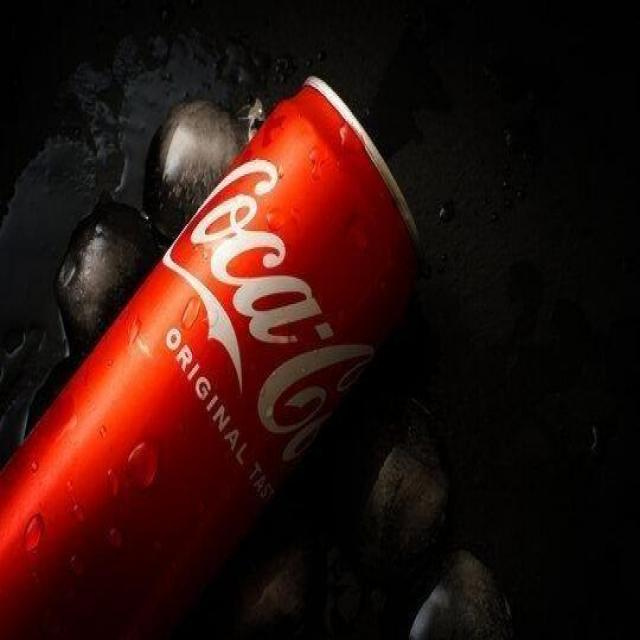tin can: (1, 73, 427, 636)
